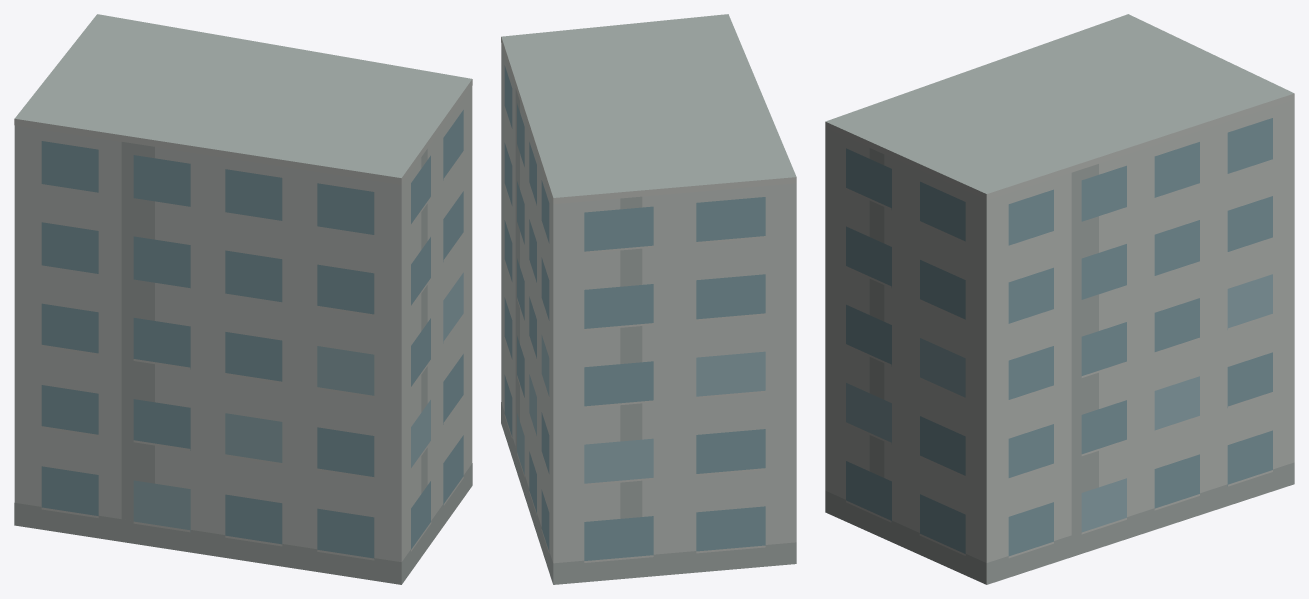
The model's file is survey-upis-32786475.glb.
3 renders of one model, left to right at view 1: azimuth 30°, elevation 25°; view 2: azimuth 150°, elevation 25°; view 3: azimuth 270°, elevation 25°, orthographic. The views are drawn at different scales.
Visible parts, largest first — view 1: survey-upis-32786475.tmp; view 2: survey-upis-32786475.tmp; view 3: survey-upis-32786475.tmp.
Part boxes in pixels (left/top/right/bottom): survey-upis-32786475.tmp: left=14, top=14, right=472, bottom=584; survey-upis-32786475.tmp: left=501, top=14, right=796, bottom=584; survey-upis-32786475.tmp: left=825, top=14, right=1294, bottom=584.
Bounding box in the file's own units: 14.94 × 15.1 × 16.45.
